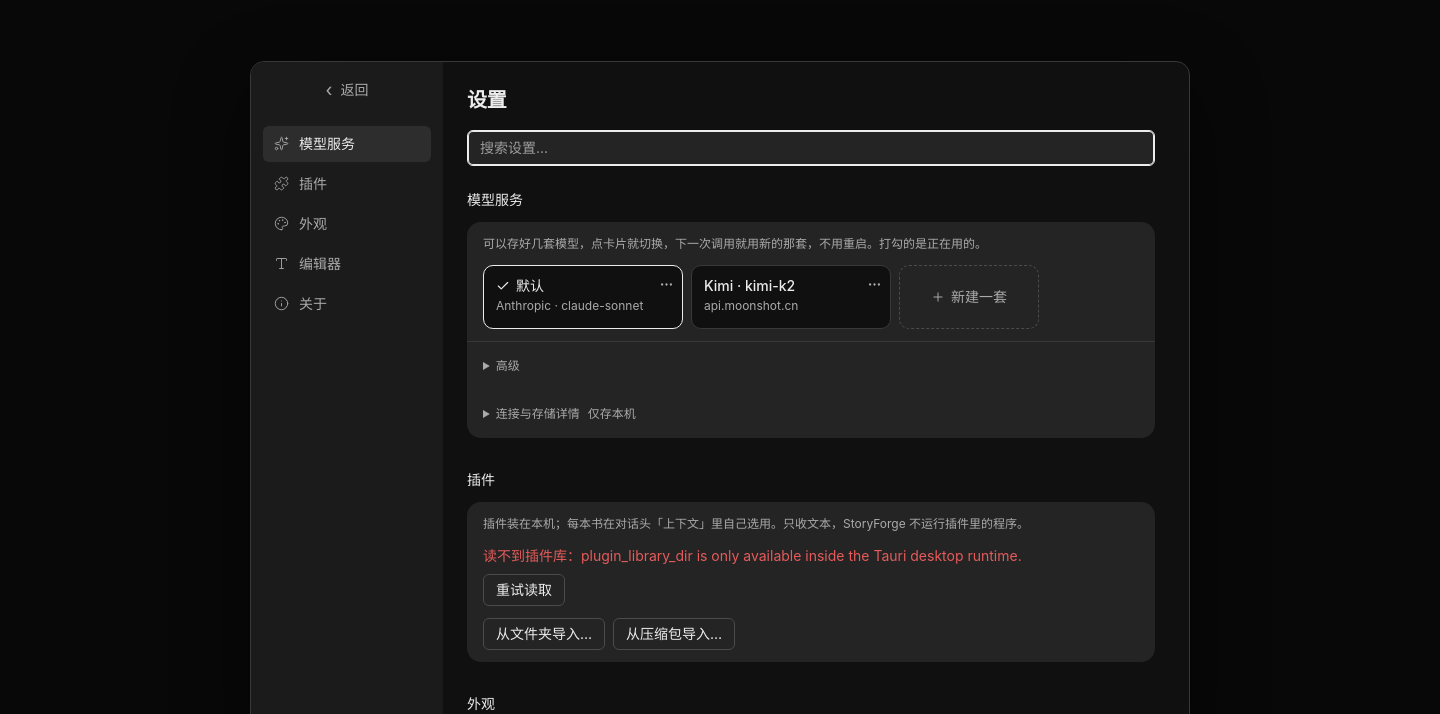
Test case: 自定义 / 中转展开地址栏且不预填，没填地址不能获取模型也不能保存
The width and height of the screenshot is (1440, 714).
Click the button "新建一套".
click(969, 297)  # box [899,265,1039,329]
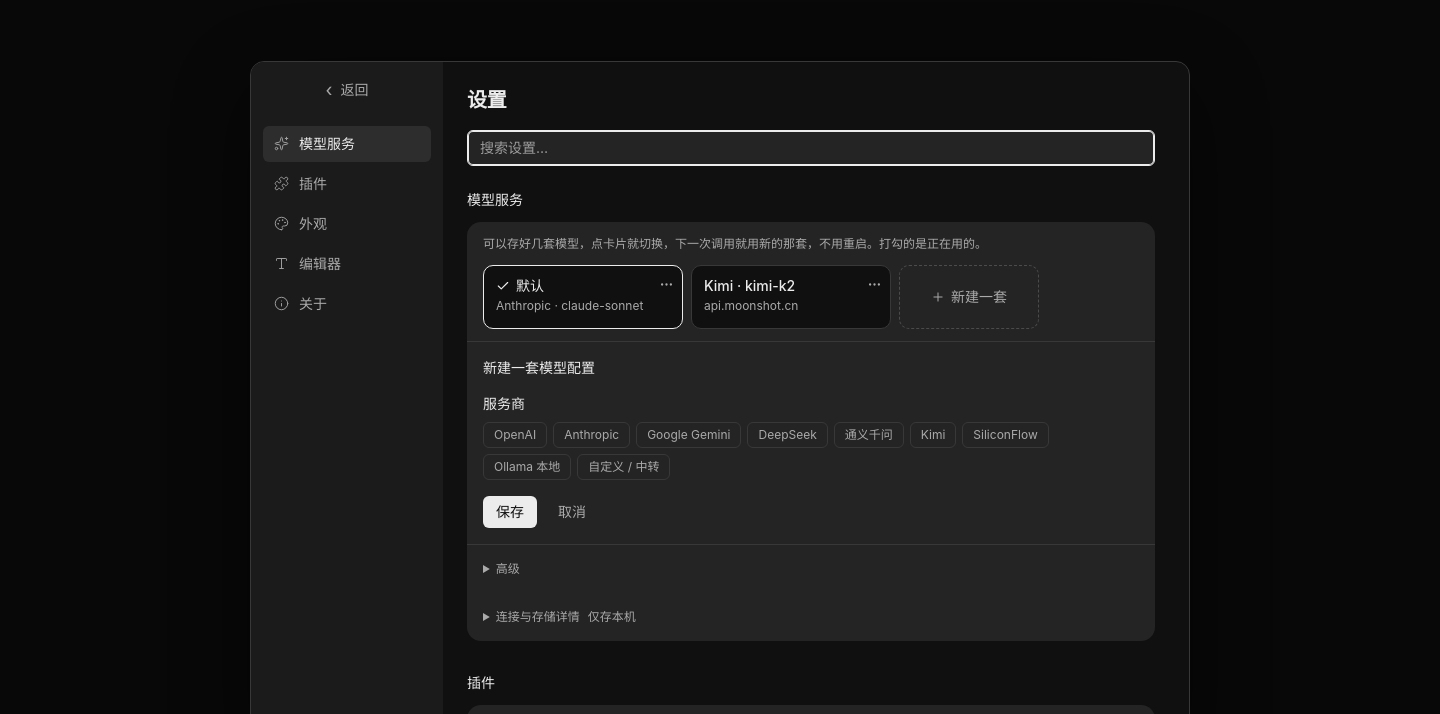
Click the radio button labelled "自定义 / 中转".
click(624, 467)  # box [577,454,670,480]
(page scrolled)
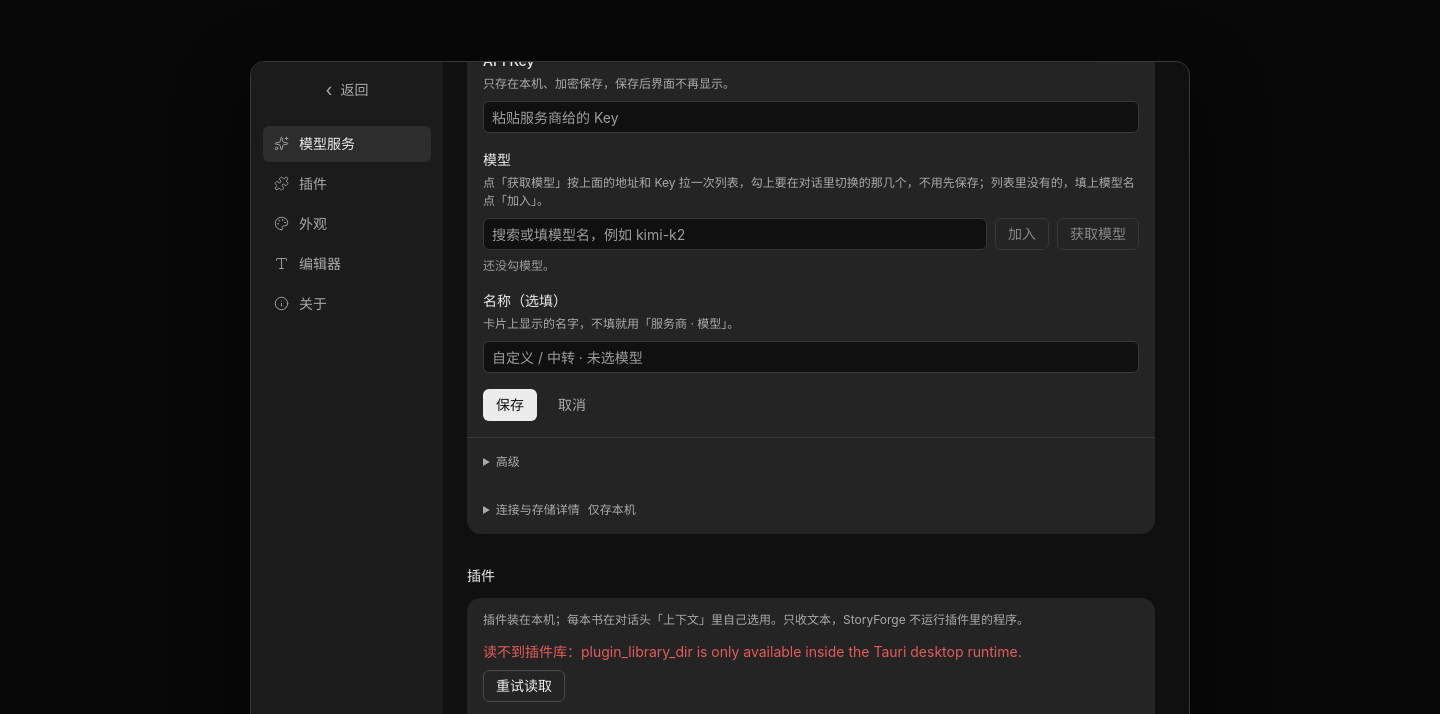
Click the button "保存".
click(510, 405)  # box [483,389,537,421]
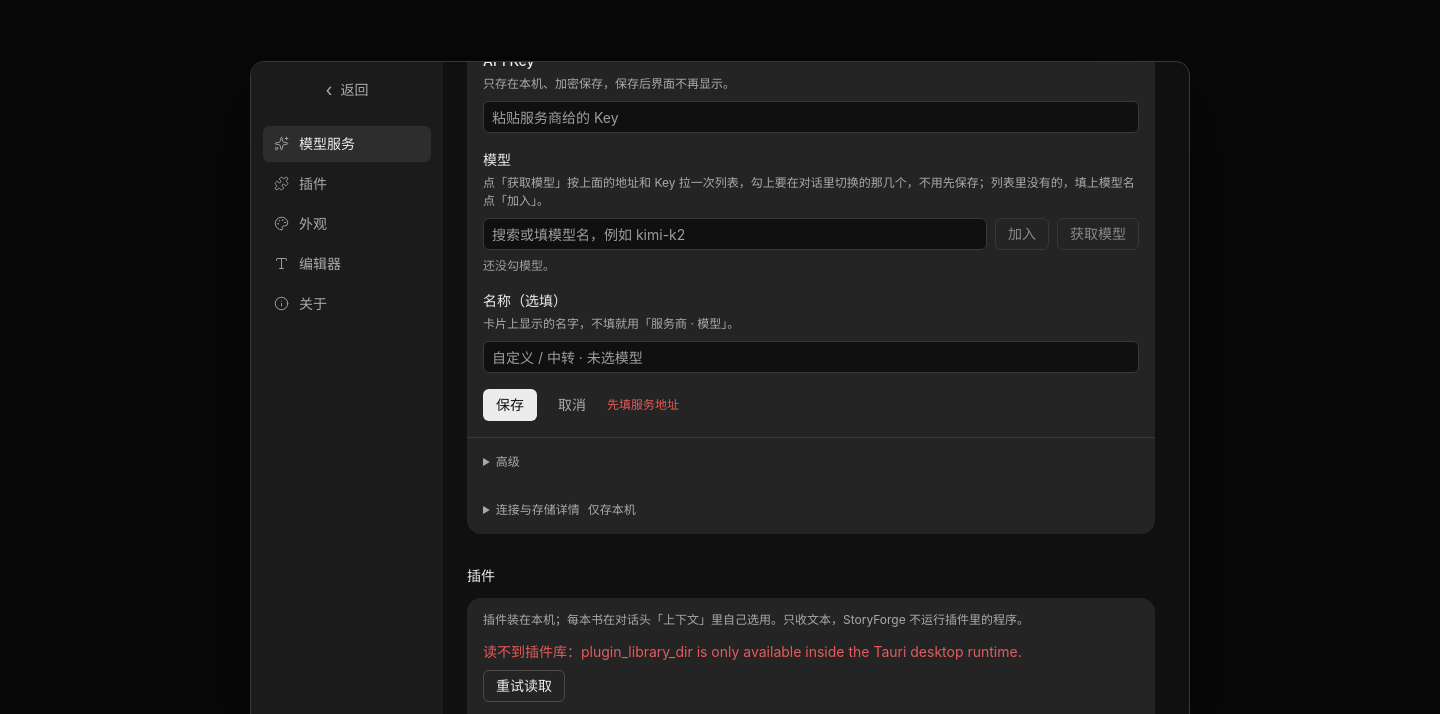
Now the message "先填服务地址" is shown, box [607,397,679,413]
